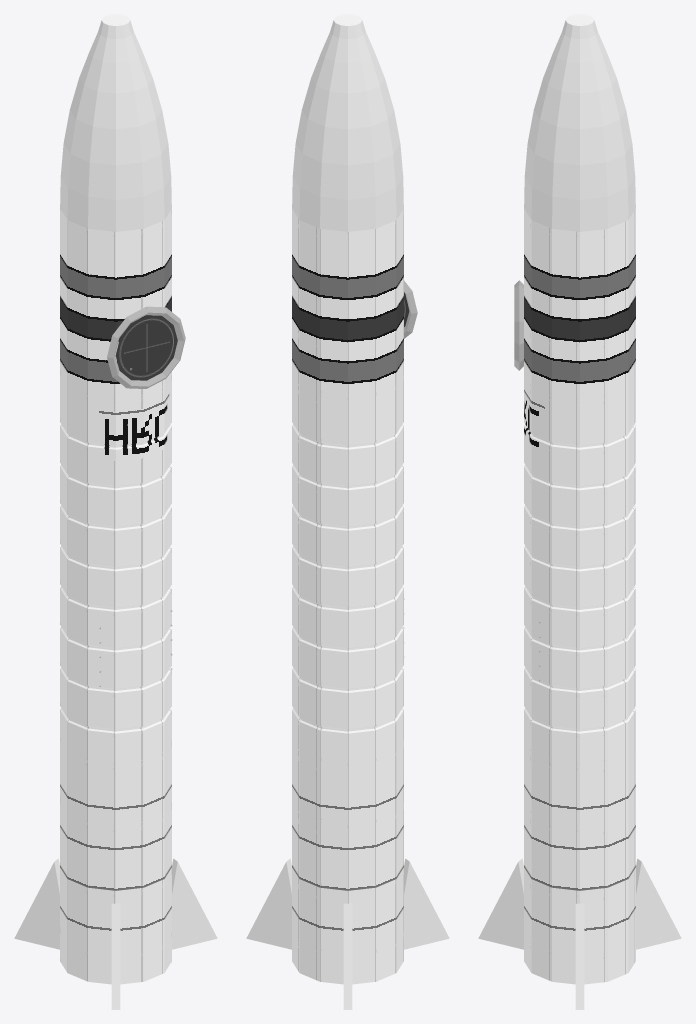
The model's file is HRC-rocket-monochrome.glb.
3 renders of one model, left to right at view 1: azimuth 30°, elevation 25°; view 2: azimuth 150°, elevation 25°; view 3: azimuth 270°, elevation 25°, orthographic.
Visible parts, largest first — view 1: Straight 70 cm hull / inset panel grooves, Rounded blunt 1.3 m nose, Three triangular 60 cm tail fins / 120 degrees, 45 cm porthole glass, 6 cm rounded gray bezel; view 2: Straight 70 cm hull / inset panel grooves, Rounded blunt 1.3 m nose, Three triangular 60 cm tail fins / 120 degrees; view 3: Straight 70 cm hull / inset panel grooves, Rounded blunt 1.3 m nose, Three triangular 60 cm tail fins / 120 degrees, 6 cm rounded gray bezel.
Boxes of the visible parts, <box> form: Straight 70 cm hull / inset panel grooves: <box>60,208,171,984</box>; Rounded blunt 1.3 m nose: <box>60,20,171,231</box>; Three triangular 60 cm tail fins / 120 degrees: <box>14,858,217,1009</box>; 45 cm porthole glass: <box>115,315,177,380</box>; 6 cm rounded gray bezel: <box>107,306,185,388</box>; Straight 70 cm hull / inset panel grooves: <box>292,208,403,984</box>; Rounded blunt 1.3 m nose: <box>292,20,403,231</box>; Three triangular 60 cm tail fins / 120 degrees: <box>246,858,449,1009</box>; Straight 70 cm hull / inset panel grooves: <box>524,208,635,984</box>; Rounded blunt 1.3 m nose: <box>524,20,635,231</box>; Three triangular 60 cm tail fins / 120 degrees: <box>478,858,681,1009</box>; 6 cm rounded gray bezel: <box>514,280,523,370</box>.
Size of the model in its own units: 1.1 by 6.5 by 1.27.
Materials: 7 (2 with a texture image).
